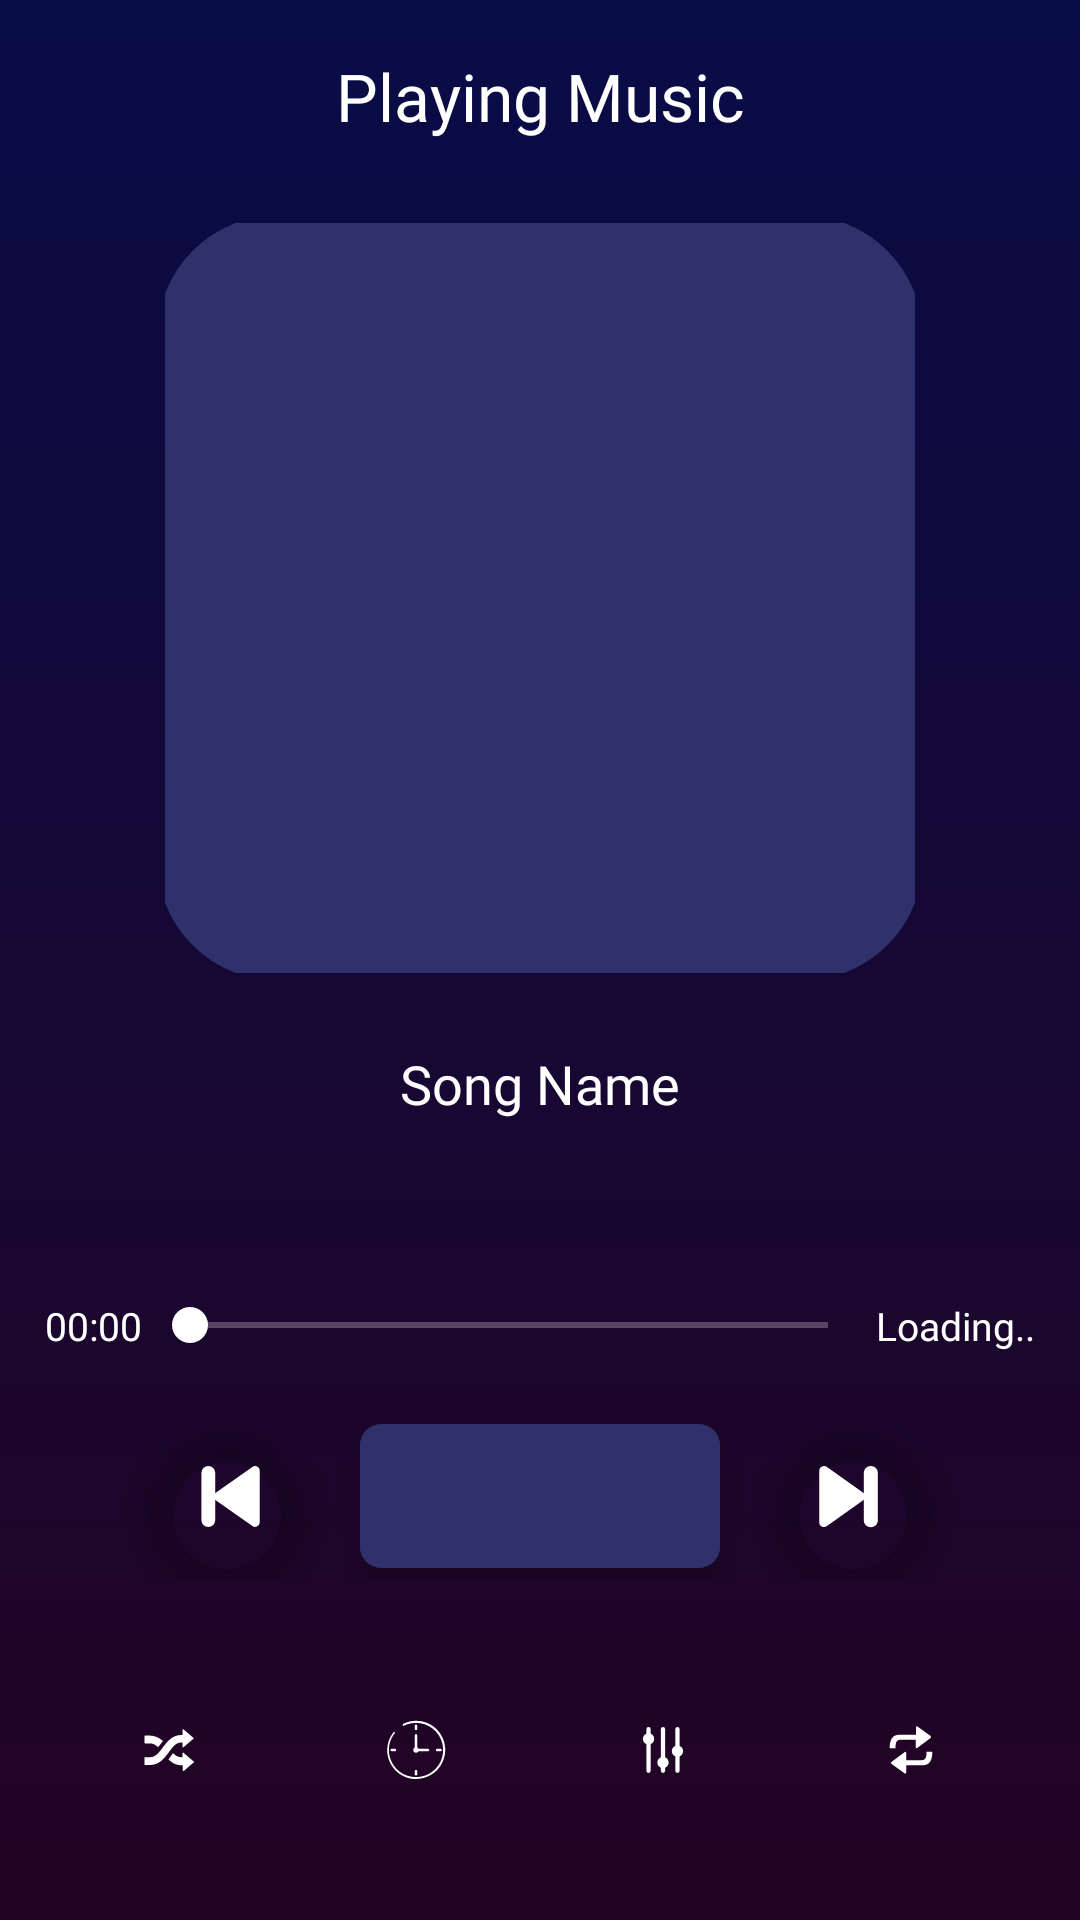

Named icons in this screenshot (1080x1920) and their bounding boxes, (x1, y1, x2, y2):
Equaliser: (643, 1727, 683, 1773)
next: (819, 1466, 878, 1528)
previous: (201, 1466, 260, 1527)
Repeat: (889, 1726, 933, 1774)
Timer: (387, 1720, 446, 1779)
